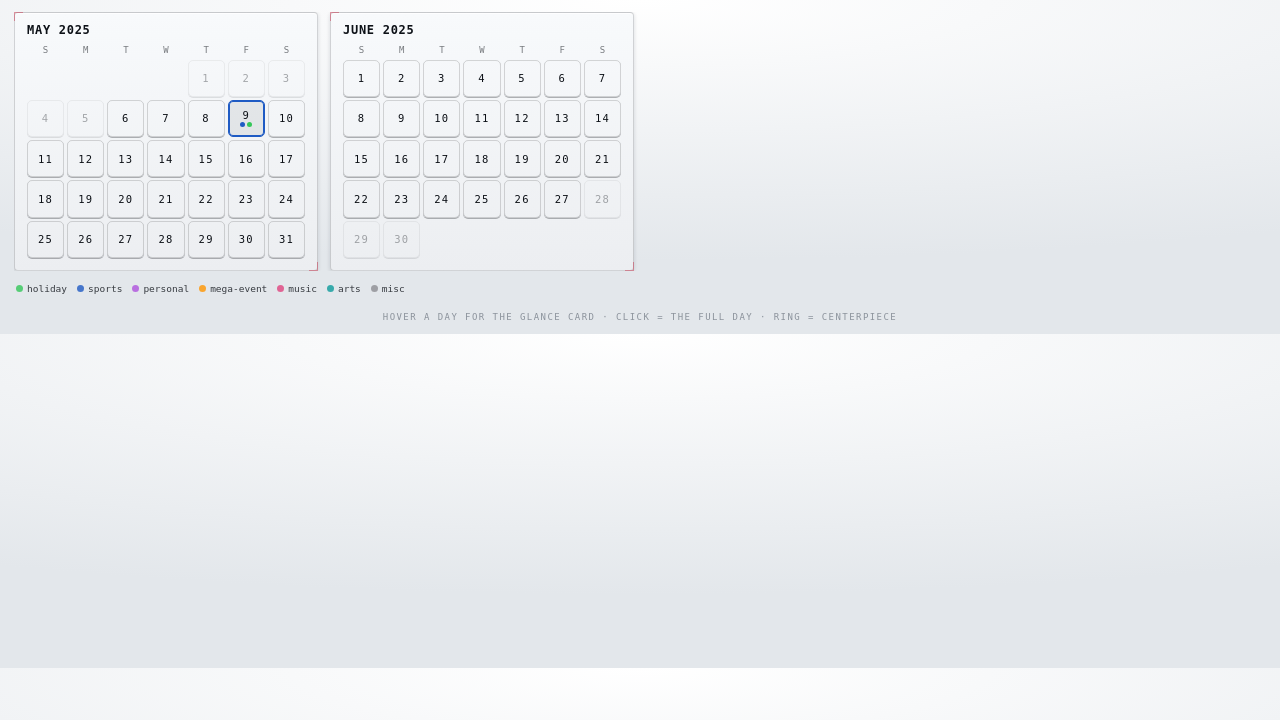
Test: Calendar › marks the item day (dots + centerpiece ring) and opens the full-day popup on click
Click the button "9" below "May 2025". click: point(246, 119)
box: [228,100,265,137]
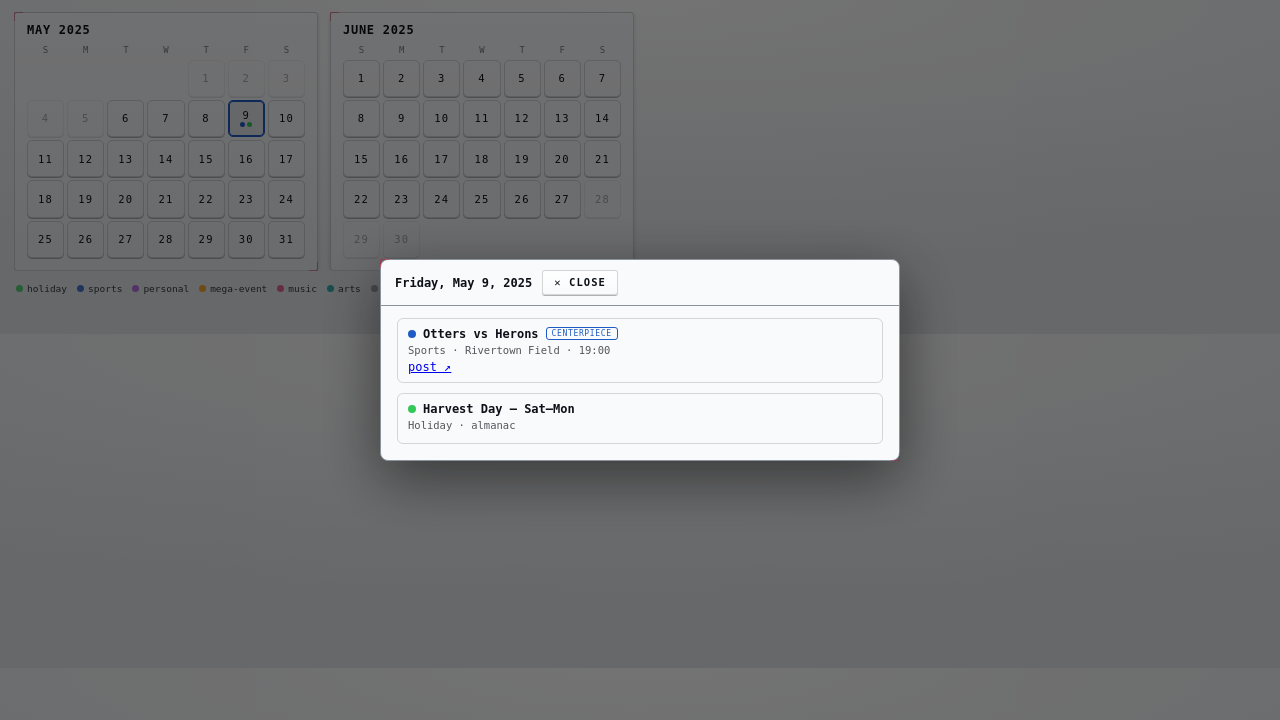
expect the text "Otters vs Herons" is shown: met, box [423,327,539,341]
expect the text "Sports · Rivertown Field · 19:00" is shown: met, box [408,344,610,356]
expect the text "CENTERPIECE" is shown: met, box [546,327,618,340]
